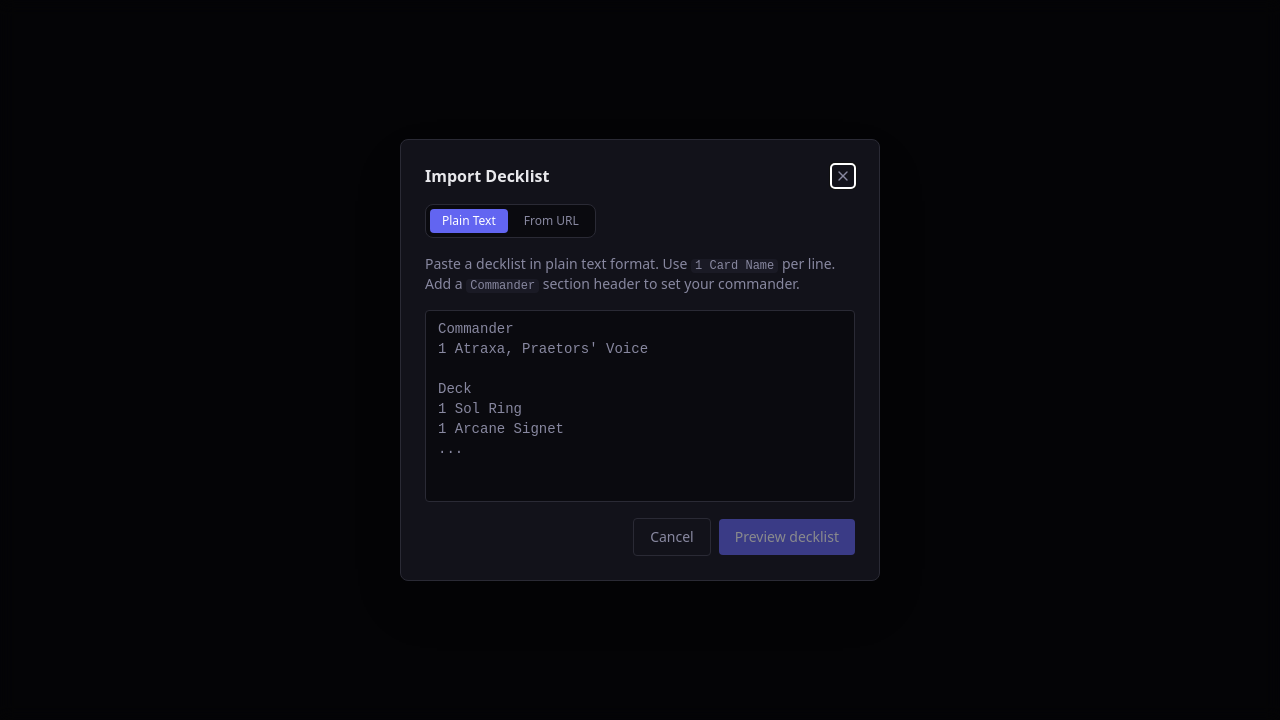
Test case: reuses preview validation when the player confirms the import
Replace the text in the text box with placeholder "Atraxa, Praetors' Voice" with "1 Sol Ring" at (640, 406), box [425,310,855,502]
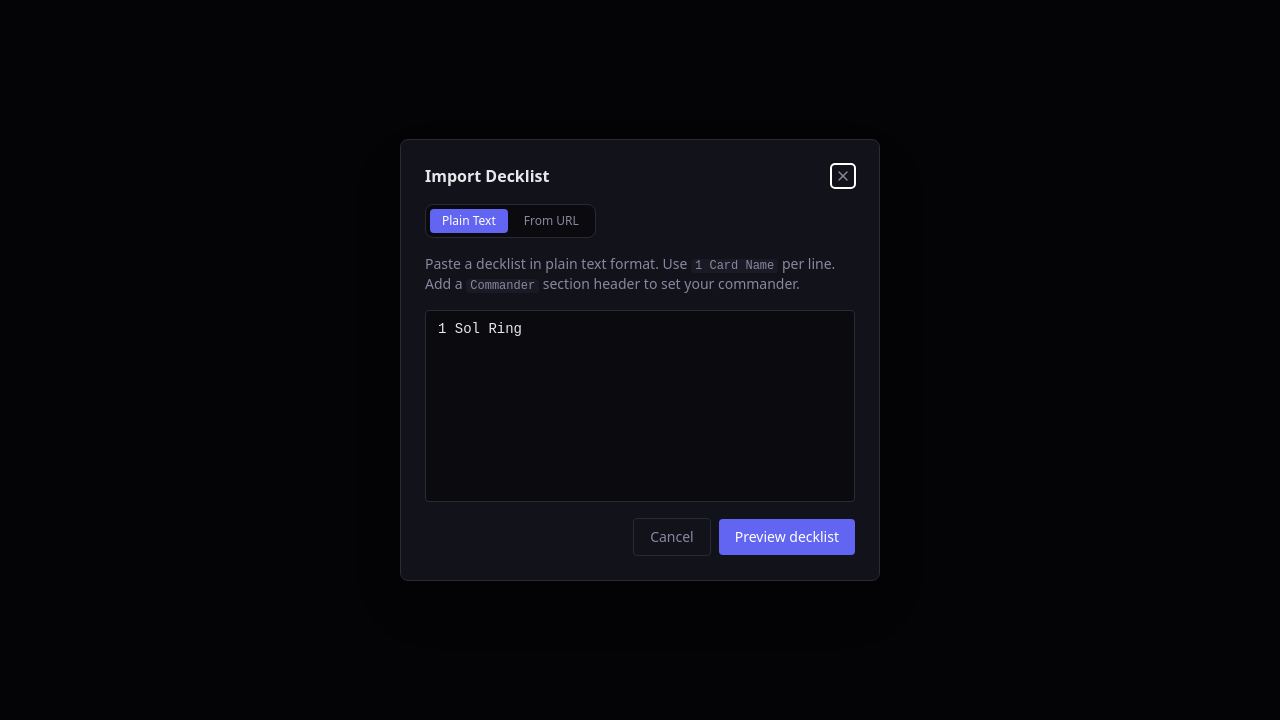
Click the button "Preview decklist" at (787, 537), box [719,519,855,555]
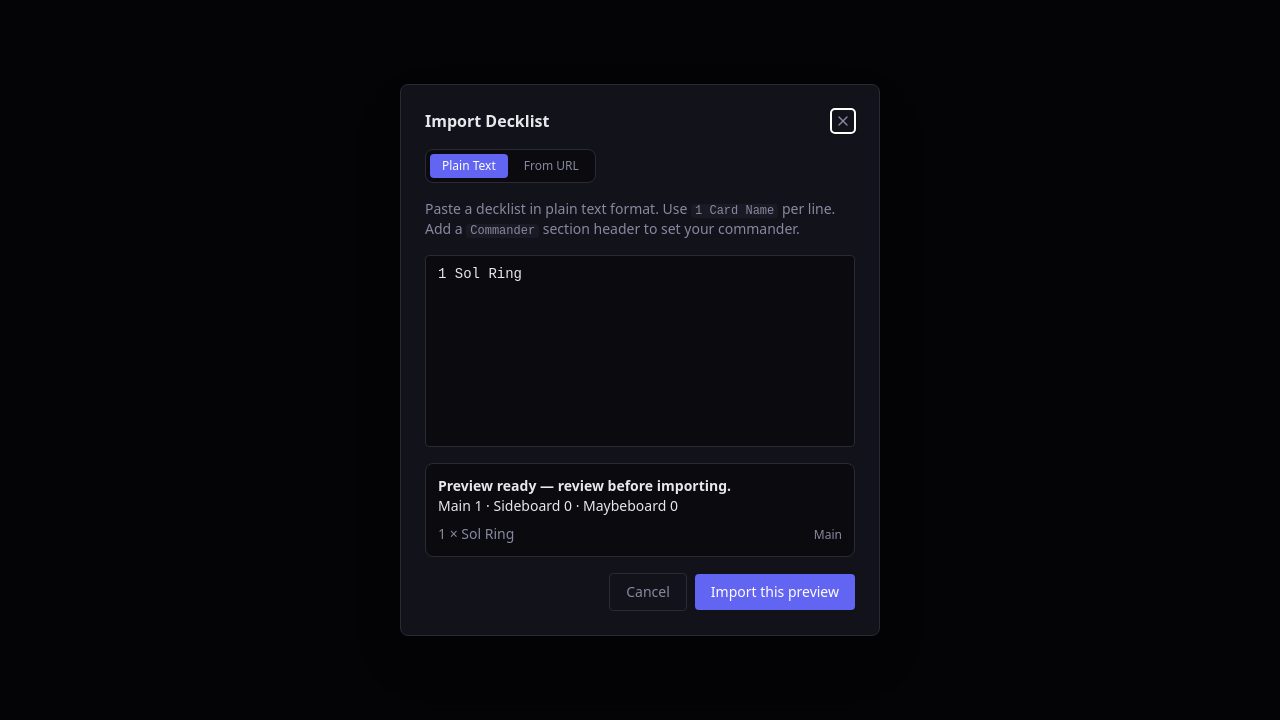
Result: the button "Import this preview" is shown
Click the button "Import this preview" at (775, 592), box [695,574,855,610]
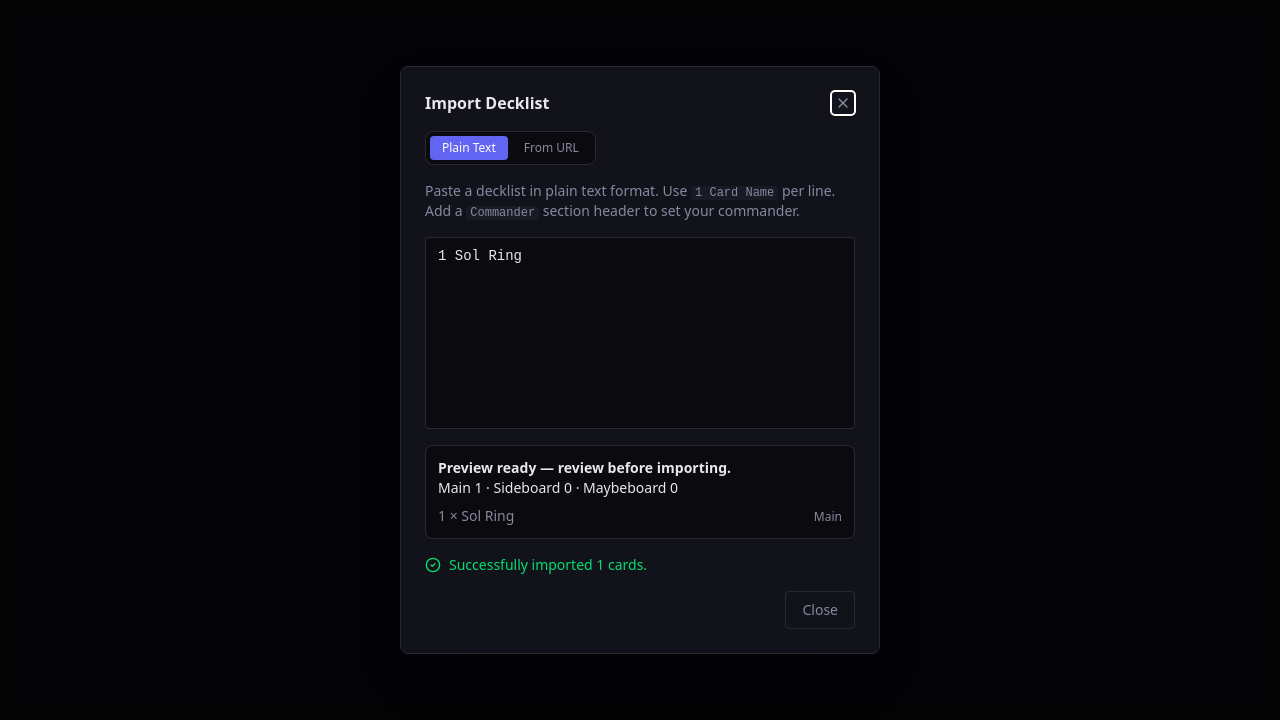
Result: the text "Successfully imported 1 cards." is shown at [425,555,647,574]
